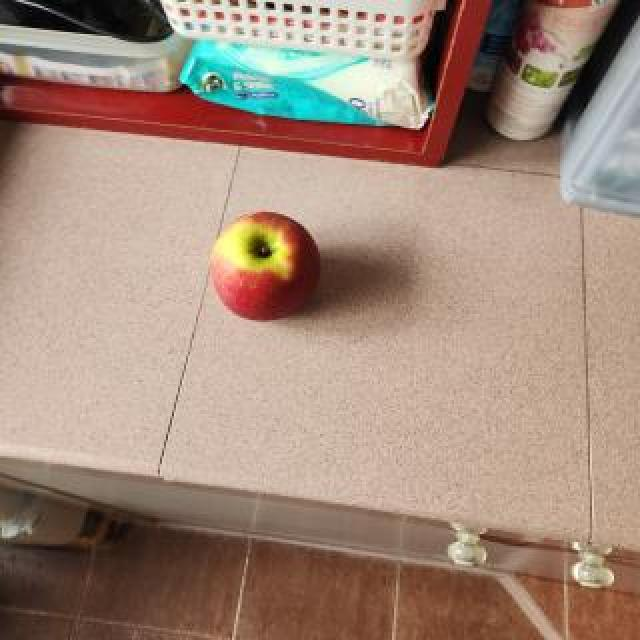Fresh Apple: (210, 206, 325, 332)
